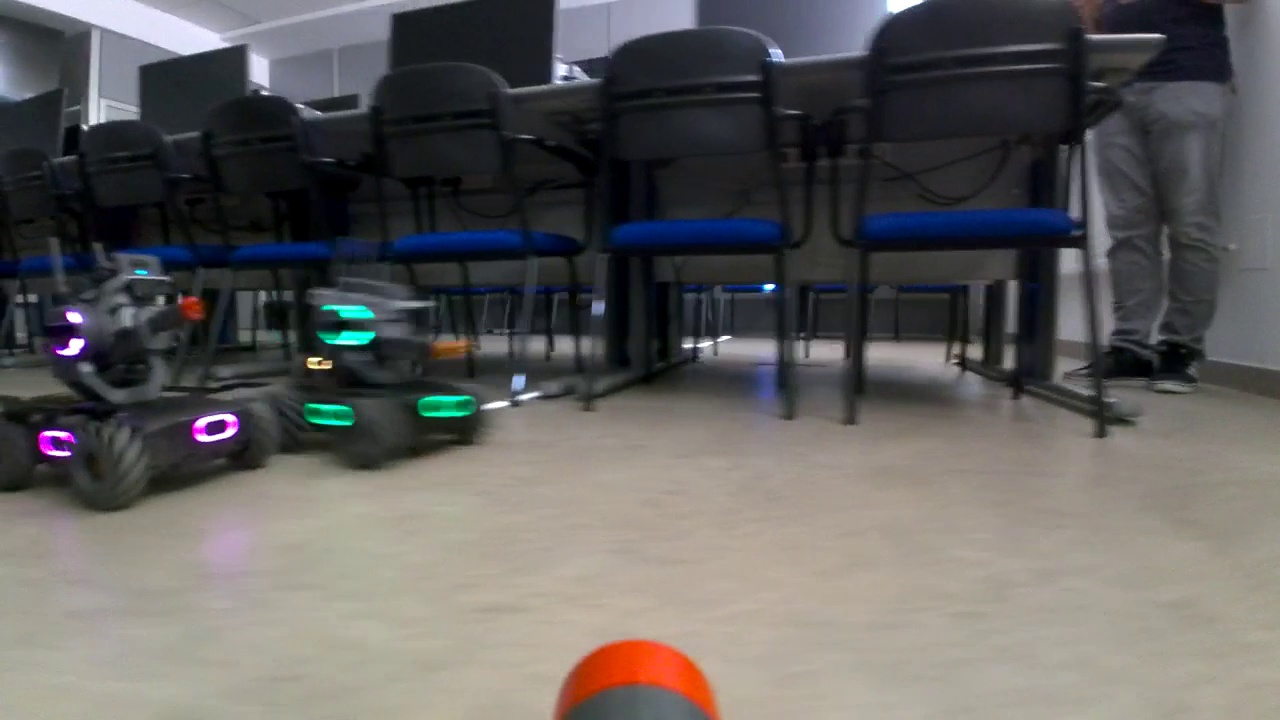robot: (2, 252, 280, 503), (257, 278, 488, 469)
